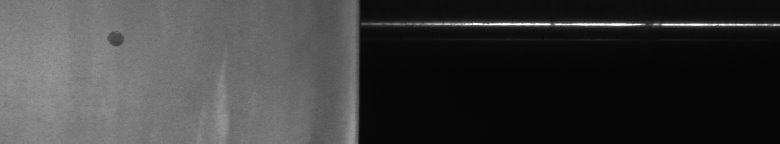fi: (103, 24, 128, 52)
